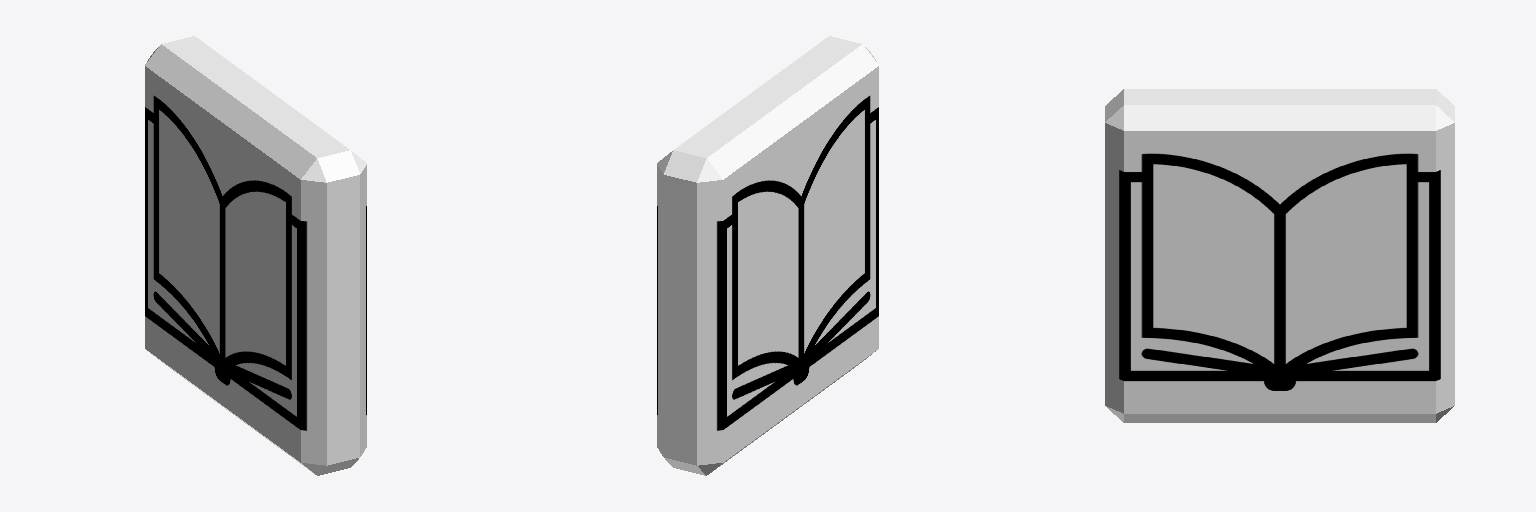
3 views of the same model, side by side, from view 1: azimuth 30°, elevation 25°; view 2: azimuth 150°, elevation 25°; view 3: azimuth 270°, elevation 25° (orthographic).
Visible parts, largest first — view 1: pCube1; view 2: pCube1; view 3: pCube1.
Part boxes in pixels (bbox=[...]): pCube1: bbox=[145, 36, 366, 475]; pCube1: bbox=[657, 36, 878, 475]; pCube1: bbox=[1105, 89, 1454, 422].
Size of the model in its own units: 0.641 by 2.91 by 2.91.
Materials: 1 (1 with a texture image).